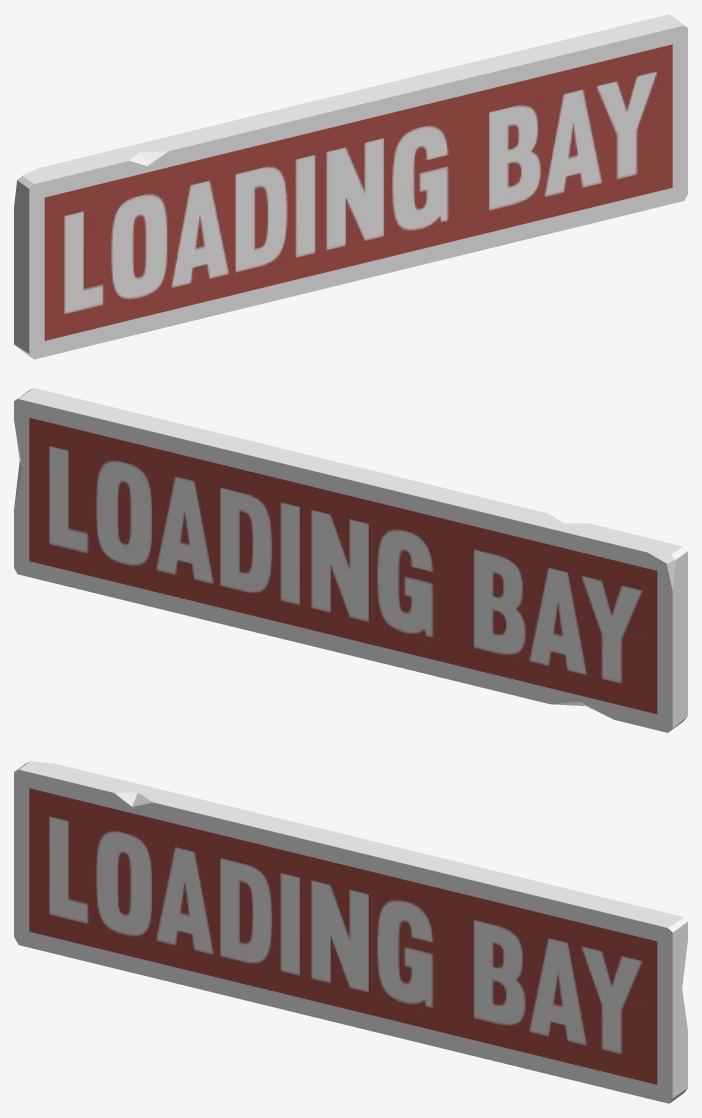
Rendered from space_SM_Sign_LoadingBay_01.gltf.
3 views of the same model, one above another, from view 1: azimuth 30°, elevation 25°; view 2: azimuth 150°, elevation 25°; view 3: azimuth 330°, elevation 25° (orthographic).
Visible parts, largest first — view 1: SM_Sign_LoadingBay_01; view 2: SM_Sign_LoadingBay_01; view 3: SM_Sign_LoadingBay_01.
Part boxes in pixels (<box>): SM_Sign_LoadingBay_01: <box>14,14,687,359</box>; SM_Sign_LoadingBay_01: <box>14,388,687,732</box>; SM_Sign_LoadingBay_01: <box>14,761,687,1103</box>.
Bounding box in the file's own units: 3.61 × 0.918 × 0.1442.
Materials: 1 (1 with a texture image).
